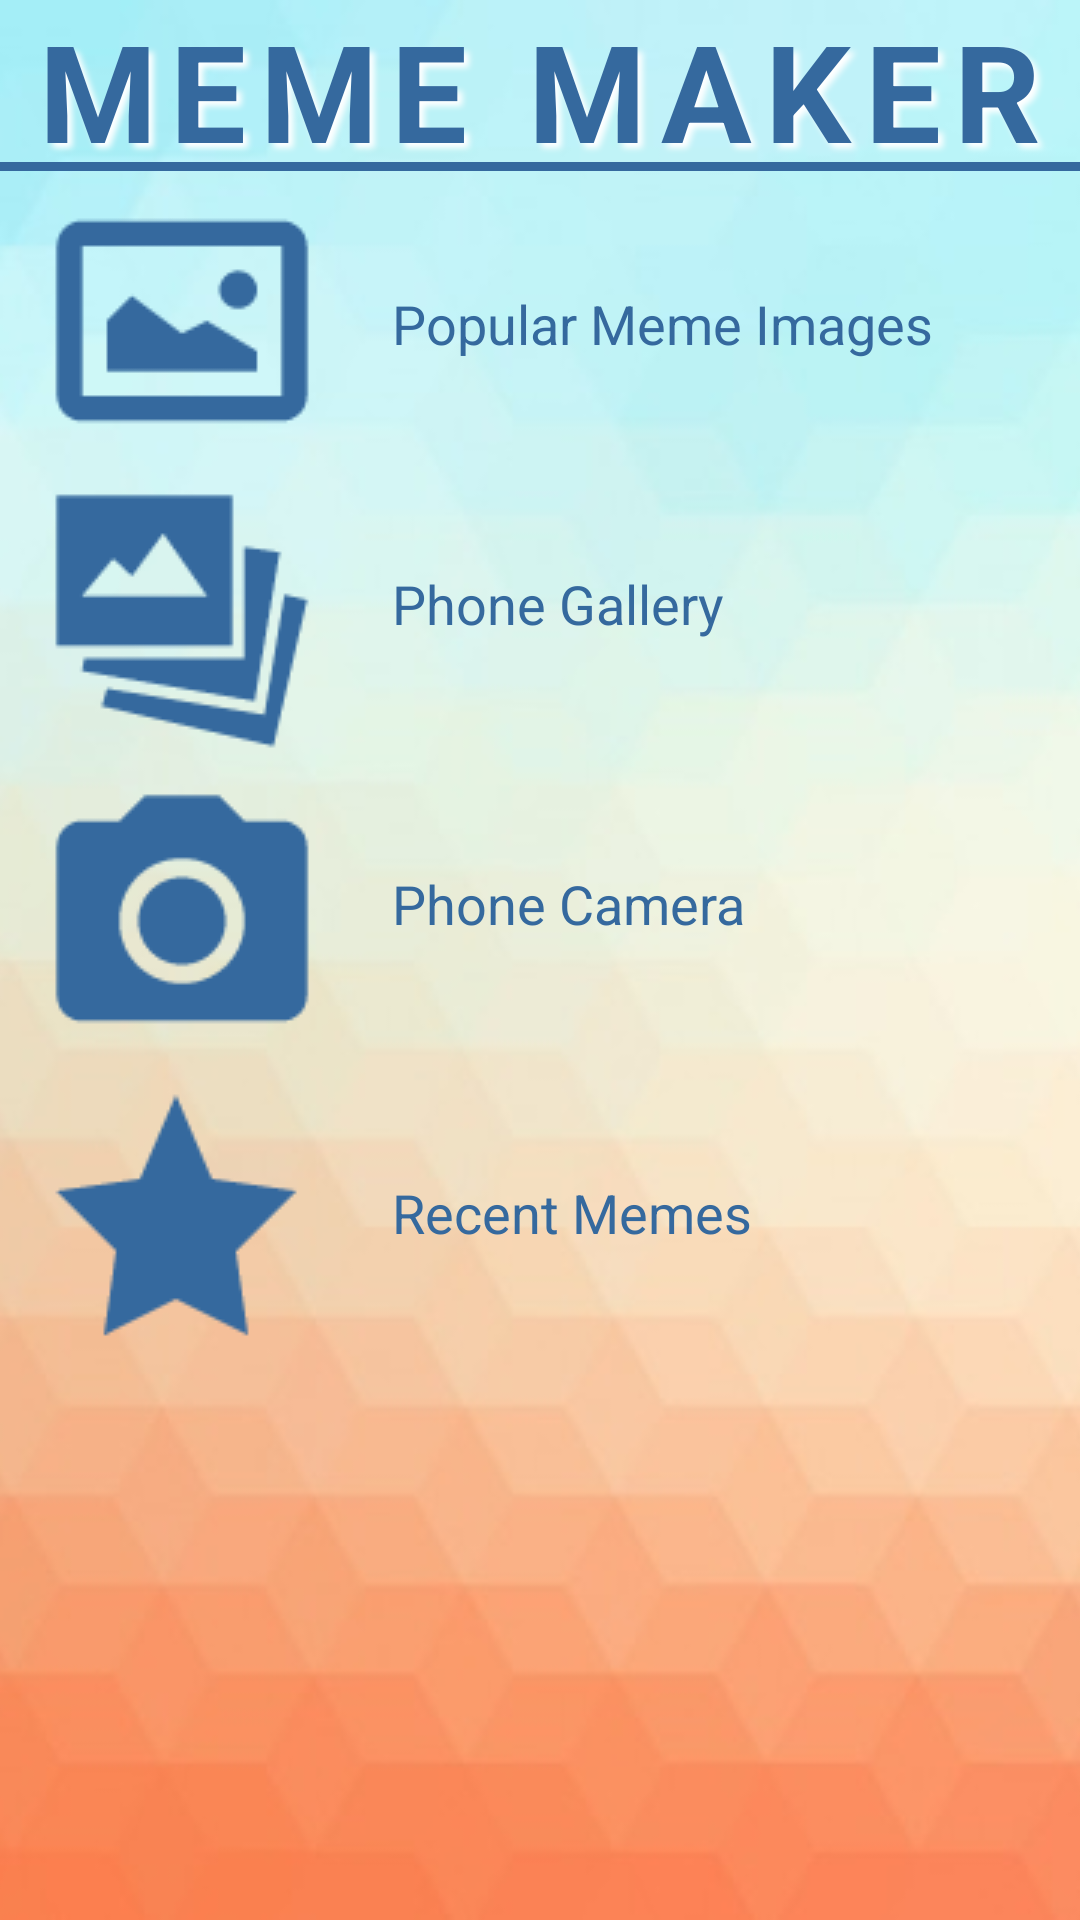

Icons on this 1080*1920 Android screen, each with the point to tap as (x=x, y=y):
photos: (x=182, y=621)
star: (x=176, y=1215)
